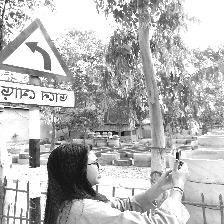Right-turn: (0, 18, 76, 110)
